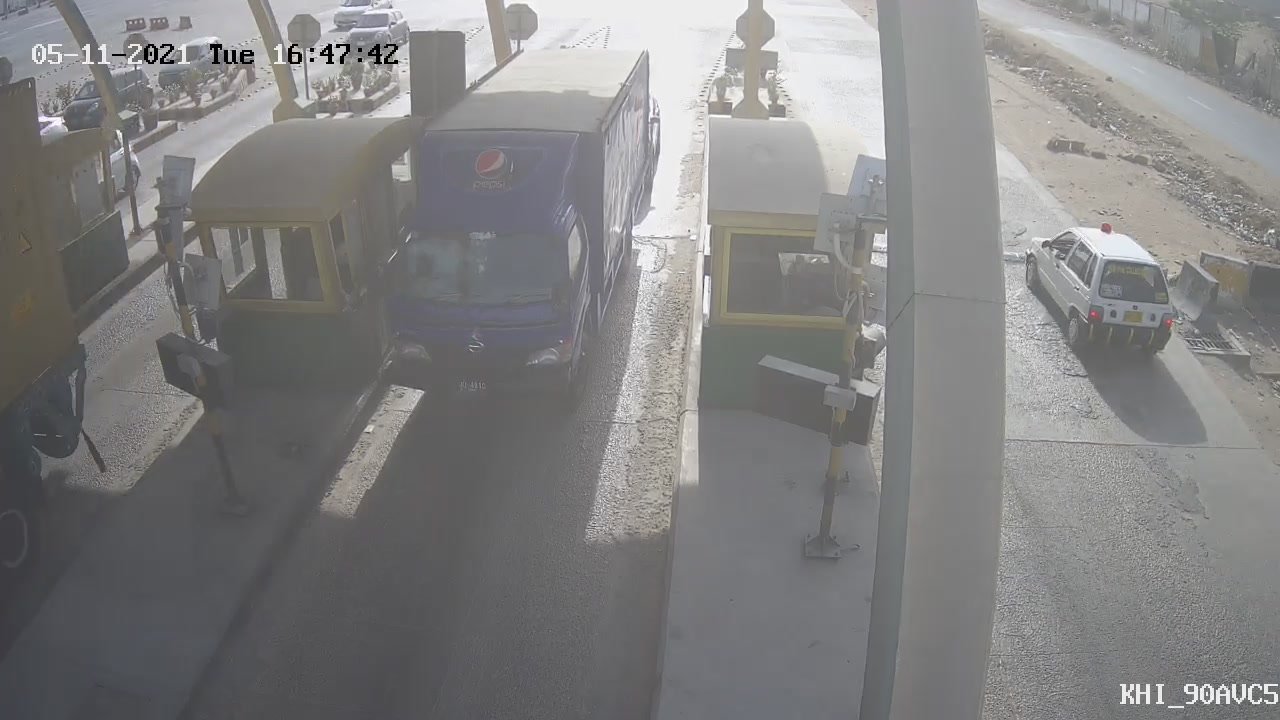F5: (322, 31, 699, 420)
